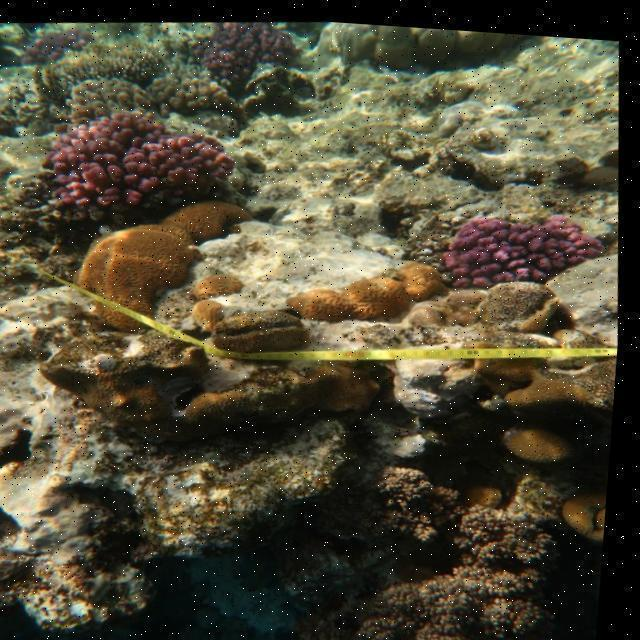Healthy Coral: (43, 87, 245, 218), (446, 196, 613, 287), (84, 213, 209, 332), (300, 250, 448, 320), (201, 12, 301, 79), (162, 195, 254, 242), (514, 415, 584, 458), (571, 477, 614, 531)
